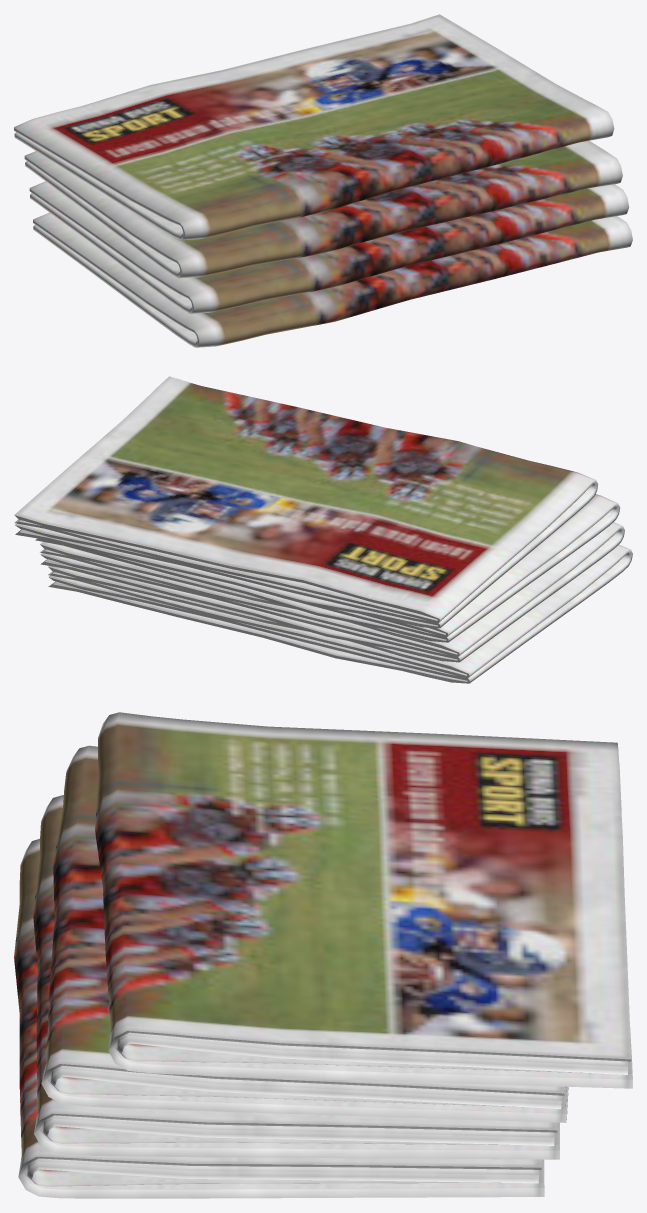
File: newspapersPile.obj
3 renders of one model, top to bottom at view 1: azimuth 30°, elevation 25°; view 2: azimuth 150°, elevation 25°; view 3: azimuth 270°, elevation 25°, orthographic. The views are drawn at different scales.
Parts seen in each view (by area): view 1: JournauxCourbeSportTop, JournauxCourbeSportThird, JournauxCourbeSportSecond, JournauxCourbeSportBase; view 2: JournauxCourbeSportTop, JournauxCourbeSportBase, JournauxCourbeSportSecond, JournauxCourbeSportThird; view 3: JournauxCourbeSportTop, JournauxCourbeSportThird, JournauxCourbeSportSecond, JournauxCourbeSportBase.
Boxes of the visible parts, bbox=[...] form: JournauxCourbeSportTop: bbox=[14, 14, 614, 240]; JournauxCourbeSportThird: bbox=[24, 140, 622, 278]; JournauxCourbeSportSecond: bbox=[29, 181, 629, 313]; JournauxCourbeSportBase: bbox=[33, 212, 632, 347]; JournauxCourbeSportTop: bbox=[14, 376, 598, 628]; JournauxCourbeSportBase: bbox=[48, 544, 632, 683]; JournauxCourbeSportSecond: bbox=[40, 522, 624, 662]; JournauxCourbeSportThird: bbox=[35, 494, 620, 642]; JournauxCourbeSportTop: bbox=[95, 712, 632, 1088]; JournauxCourbeSportThird: bbox=[41, 745, 568, 1122]; JournauxCourbeSportSecond: bbox=[33, 795, 559, 1159]; JournauxCourbeSportBase: bbox=[14, 838, 544, 1198].
Size of the model in its own units: 30.1 by 7.7 by 23.57.
